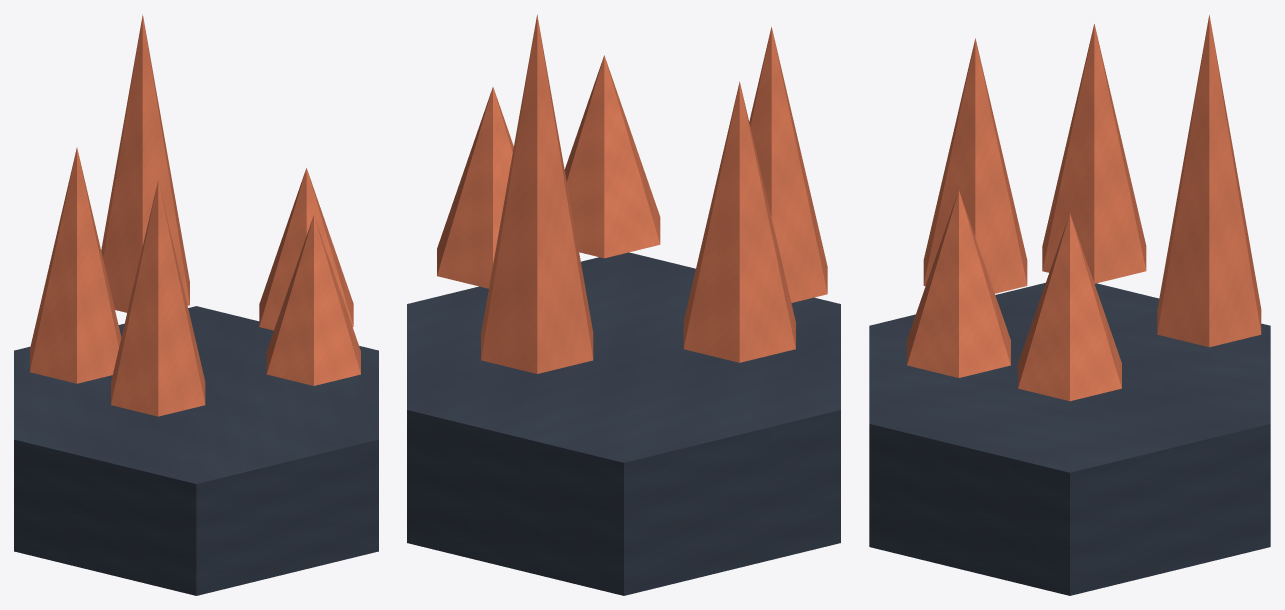
File: atlas100-s021-a12.glb
3 views of the same model, side by side, from view 1: azimuth 30°, elevation 25°; view 2: azimuth 150°, elevation 25°; view 3: azimuth 270°, elevation 25° (orthographic). The views are drawn at different scales.
Parts seen in each view (by area): view 1: atlas100-s021-a12:part-000, atlas100-s021-a12:part-002, atlas100-s021-a12:part-005, atlas100-s021-a12:part-003, atlas100-s021-a12:part-004, atlas100-s021-a12:part-001; view 2: atlas100-s021-a12:part-000, atlas100-s021-a12:part-003, atlas100-s021-a12:part-005, atlas100-s021-a12:part-004, atlas100-s021-a12:part-002, atlas100-s021-a12:part-001; view 3: atlas100-s021-a12:part-000, atlas100-s021-a12:part-003, atlas100-s021-a12:part-005, atlas100-s021-a12:part-002, atlas100-s021-a12:part-001, atlas100-s021-a12:part-004.
Part boxes in pixels (<box>): atlas100-s021-a12:part-000: <box>14,306,378,595</box>; atlas100-s021-a12:part-002: <box>111,180,205,416</box>; atlas100-s021-a12:part-005: <box>30,147,121,383</box>; atlas100-s021-a12:part-003: <box>101,14,189,312</box>; atlas100-s021-a12:part-004: <box>266,215,360,385</box>; atlas100-s021-a12:part-001: <box>259,168,353,330</box>; atlas100-s021-a12:part-000: <box>407,252,840,595</box>; atlas100-s021-a12:part-003: <box>481,14,593,373</box>; atlas100-s021-a12:part-005: <box>683,81,795,362</box>; atlas100-s021-a12:part-004: <box>564,55,660,258</box>; atlas100-s021-a12:part-002: <box>749,27,827,302</box>; atlas100-s021-a12:part-001: <box>437,87,513,288</box>; atlas100-s021-a12:part-000: <box>869,282,1270,595</box>; atlas100-s021-a12:part-003: <box>1157,15,1261,347</box>; atlas100-s021-a12:part-005: <box>1042,24,1146,283</box>; atlas100-s021-a12:part-002: <box>923,38,1027,293</box>; atlas100-s021-a12:part-001: <box>1018,213,1121,401</box>; atlas100-s021-a12:part-004: <box>907,190,1010,377</box>.
Bounding box in the file's own units: 1.16 × 1.35 × 1.
2 materials, 2 textured.
